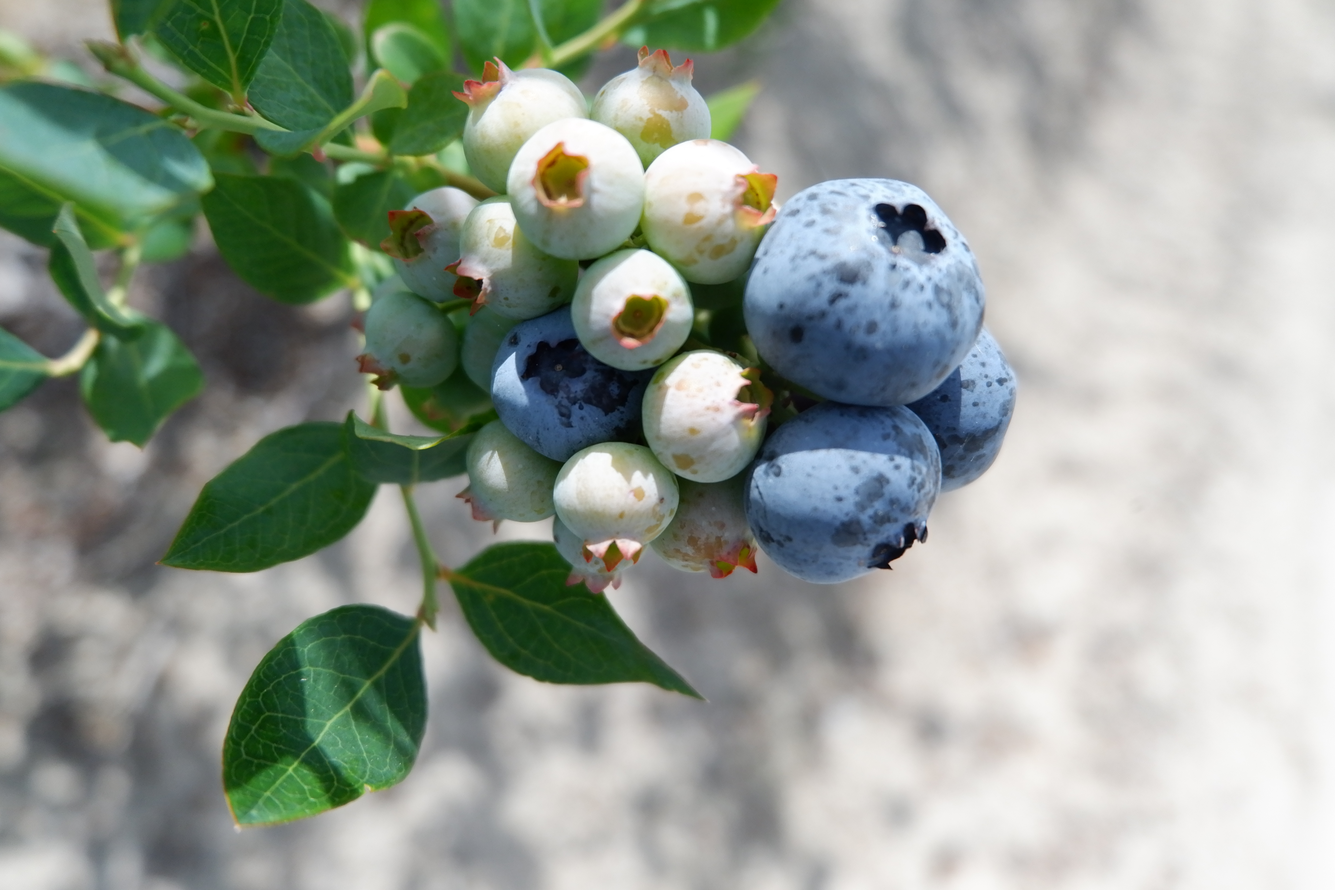Immature: (512, 120, 641, 255), (449, 193, 582, 322), (644, 139, 775, 267), (643, 351, 768, 478), (460, 64, 585, 188), (574, 248, 690, 368), (593, 51, 709, 160), (555, 444, 675, 548), (653, 475, 753, 575), (460, 421, 558, 521), (358, 291, 458, 388), (383, 189, 473, 289), (557, 518, 638, 588), (680, 225, 767, 280), (462, 306, 512, 389)
Mature: (744, 183, 983, 400), (750, 403, 939, 578), (491, 308, 650, 456), (910, 325, 1013, 483)
